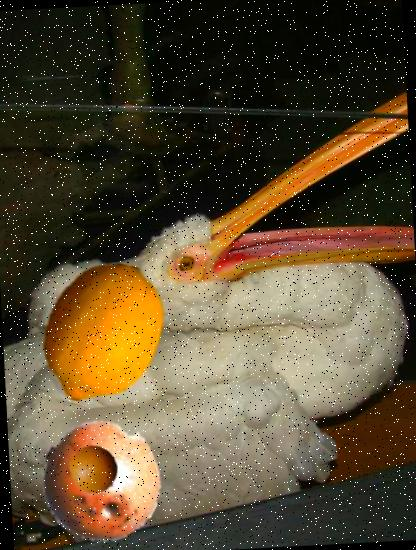Granadilla: (38, 417, 166, 544)
Lemon: (28, 257, 178, 408)
Orange: (67, 442, 122, 496)
